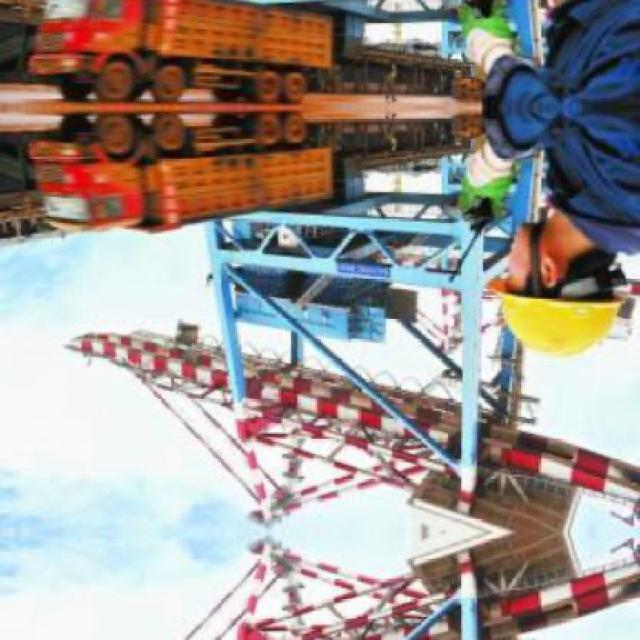con casco: (443, 220, 625, 378)
